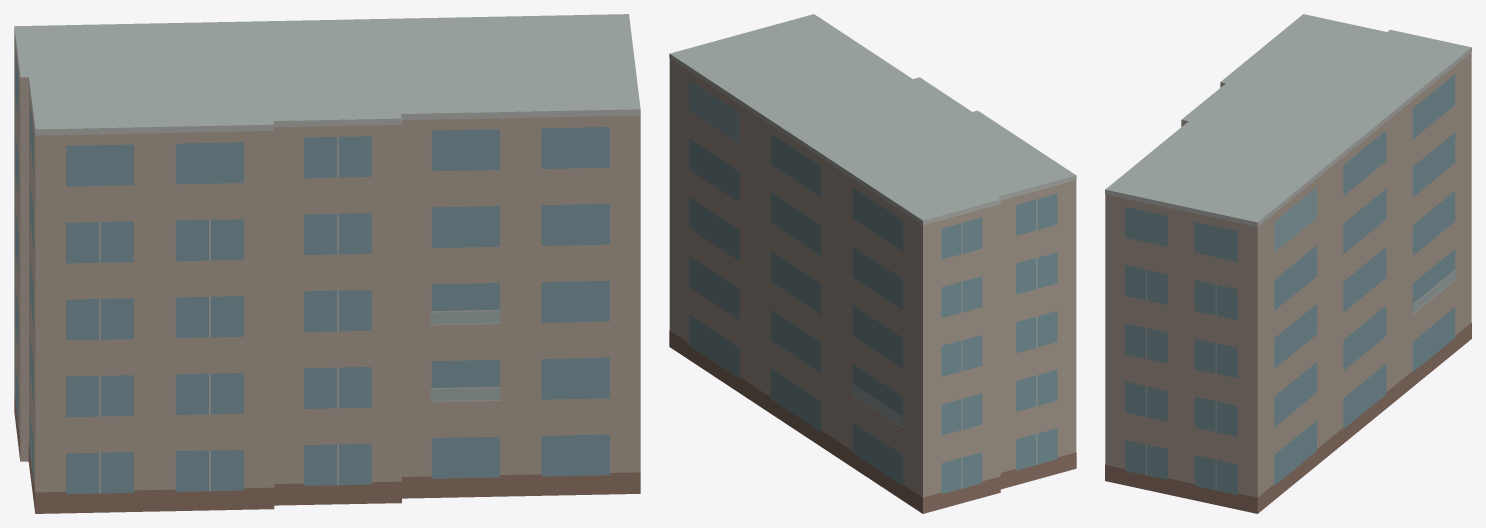
File: survey-upis-32555105.glb
The picture shows the model from 3 angles, left to right: view 1: azimuth 30°, elevation 25°; view 2: azimuth 150°, elevation 25°; view 3: azimuth 270°, elevation 25°; orthographic projection. The views are drawn at different scales.
Visible parts, largest first — view 1: survey-upis-32555105.tmp; view 2: survey-upis-32555105.tmp; view 3: survey-upis-32555105.tmp.
Part boxes in pixels (box(x1,y1,x2,y2)): survey-upis-32555105.tmp: box(14, 14, 640, 513); survey-upis-32555105.tmp: box(669, 14, 1076, 513); survey-upis-32555105.tmp: box(1105, 14, 1471, 513).
Size of the model in its own units: 23.4 by 15.25 by 17.4.
